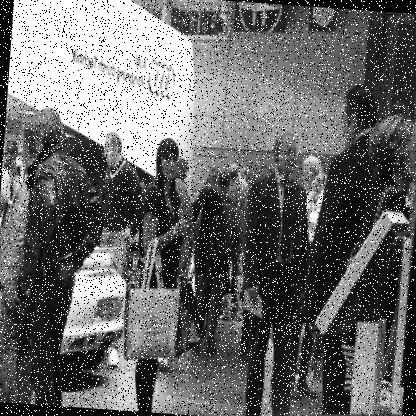Car: (0, 202, 132, 398)
